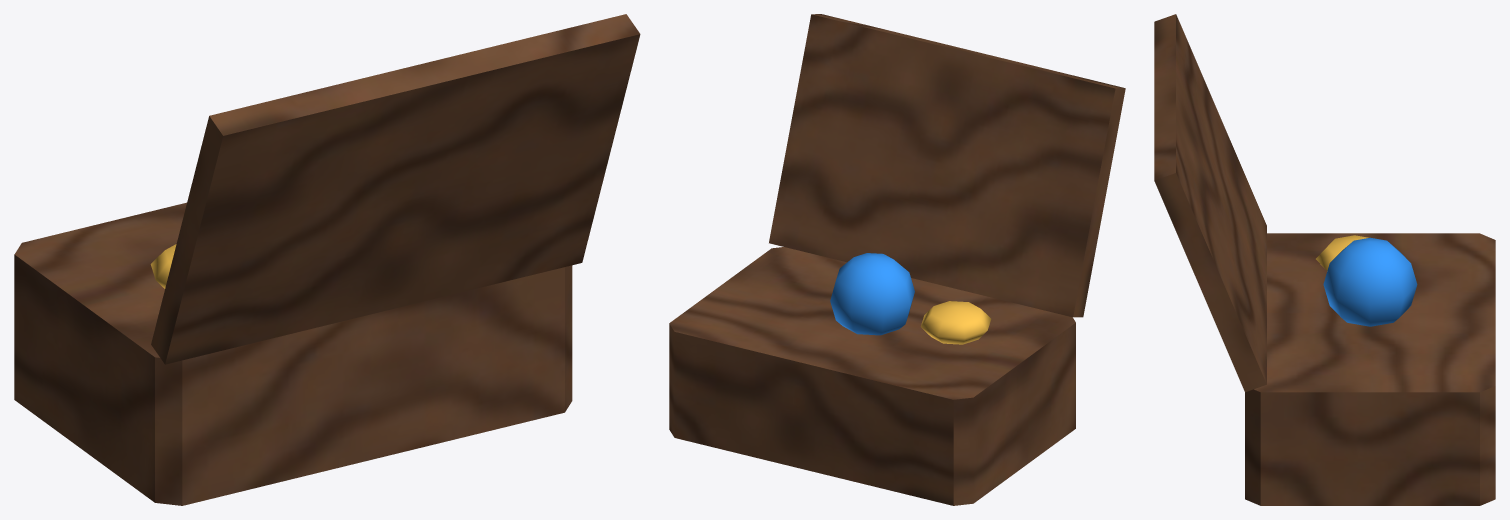
Rendered from loot_jewels.obj.
3 renders of one model, left to right at view 1: azimuth 30°, elevation 25°; view 2: azimuth 150°, elevation 25°; view 3: azimuth 270°, elevation 25°, orthographic. The views are drawn at different scales.
Visible parts, largest first — view 1: loot_jewels; view 2: loot_jewels; view 3: loot_jewels.
Boxes of the visible parts, x1,y1,x2,y2 form: loot_jewels: (14, 14, 640, 505); loot_jewels: (669, 14, 1125, 505); loot_jewels: (1154, 14, 1495, 505).
Size of the model in its own units: 0.24 by 0.2346 by 0.218.
3 materials, 1 textured.
